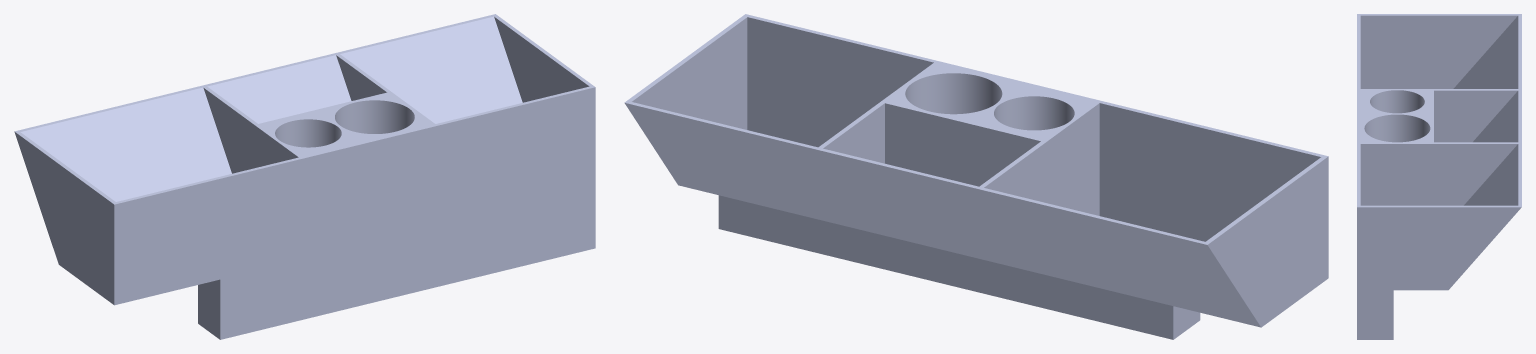
The model's file is cart-insert.glb.
3 views of the same model, side by side, from view 1: azimuth 30°, elevation 25°; view 2: azimuth 150°, elevation 25°; view 3: azimuth 270°, elevation 25° (orthographic). The views are drawn at different scales.
Visible parts, largest first — view 1: Part 1; view 2: Part 1; view 3: Part 1.
Boxes of the visible parts, x1=… form: Part 1: x1=14, y1=14, x2=595, y2=339; Part 1: x1=624, y1=14, x2=1328, y2=339; Part 1: x1=1357, y1=14, x2=1521, y2=339.
Bounding box in the file's own units: 0.635 × 0.2032 × 0.2286.
